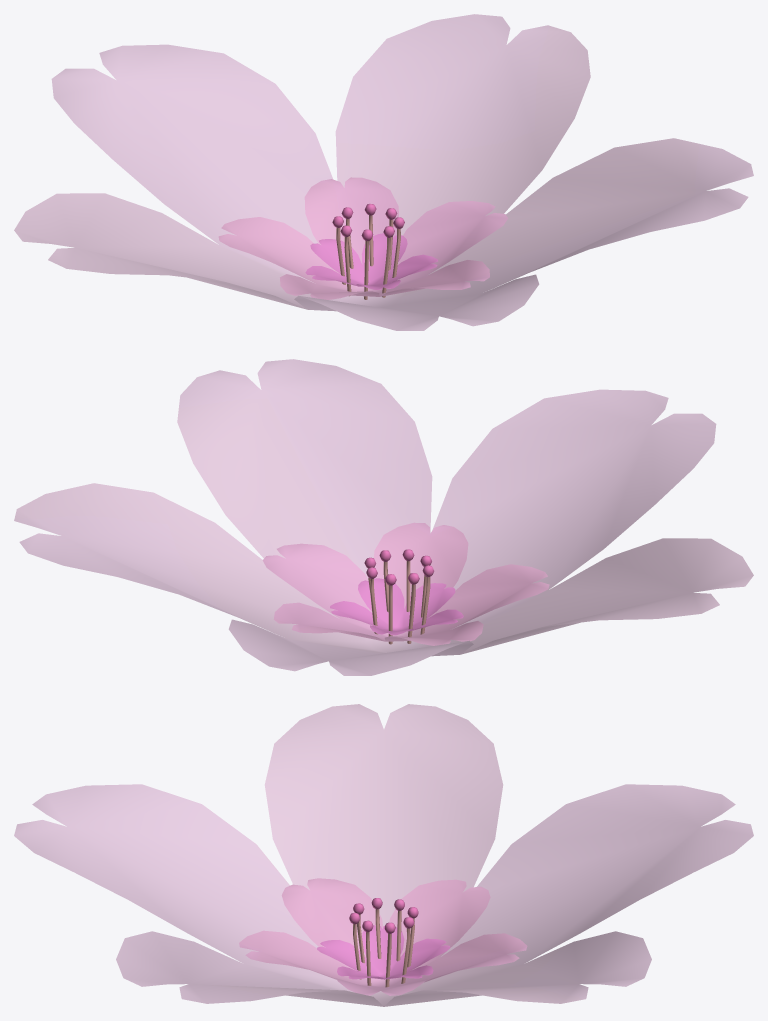
The model's file is CHERRY FLOWER.glb.
3 views of the same model, one above another, from view 1: azimuth 30°, elevation 25°; view 2: azimuth 150°, elevation 25°; view 3: azimuth 270°, elevation 25° (orthographic).
Visible parts, largest first — view 1: KyodaiSakuraHana_0; view 2: KyodaiSakuraHana_0; view 3: KyodaiSakuraHana_0.
Boxes of the visible parts, box(x1,y1,x2,y2) form: KyodaiSakuraHana_0: box(14, 14, 753, 330); KyodaiSakuraHana_0: box(14, 359, 753, 675); KyodaiSakuraHana_0: box(14, 704, 753, 1006).
Size of the model in its own units: 1.24 by 0.2395 by 1.3.
1 material, 1 textured.
